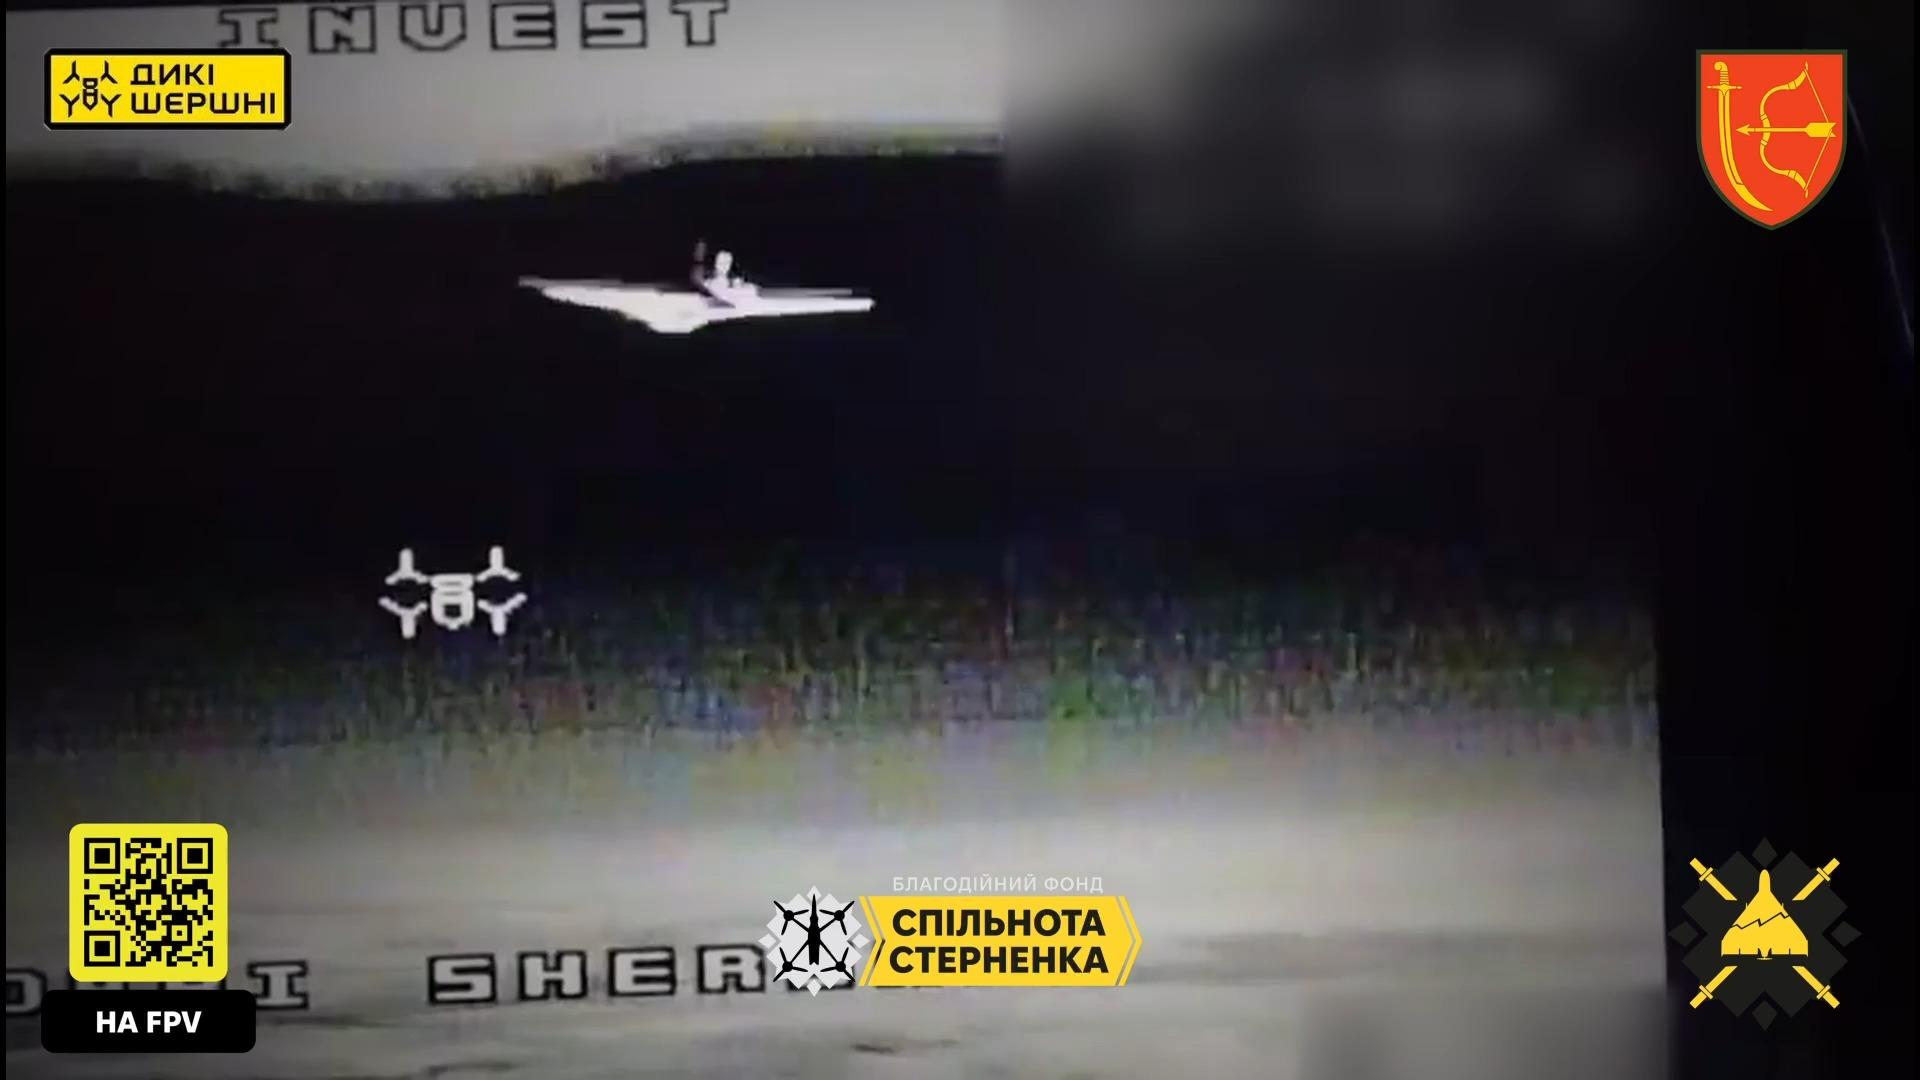Gerbera: (518, 255, 881, 336)
